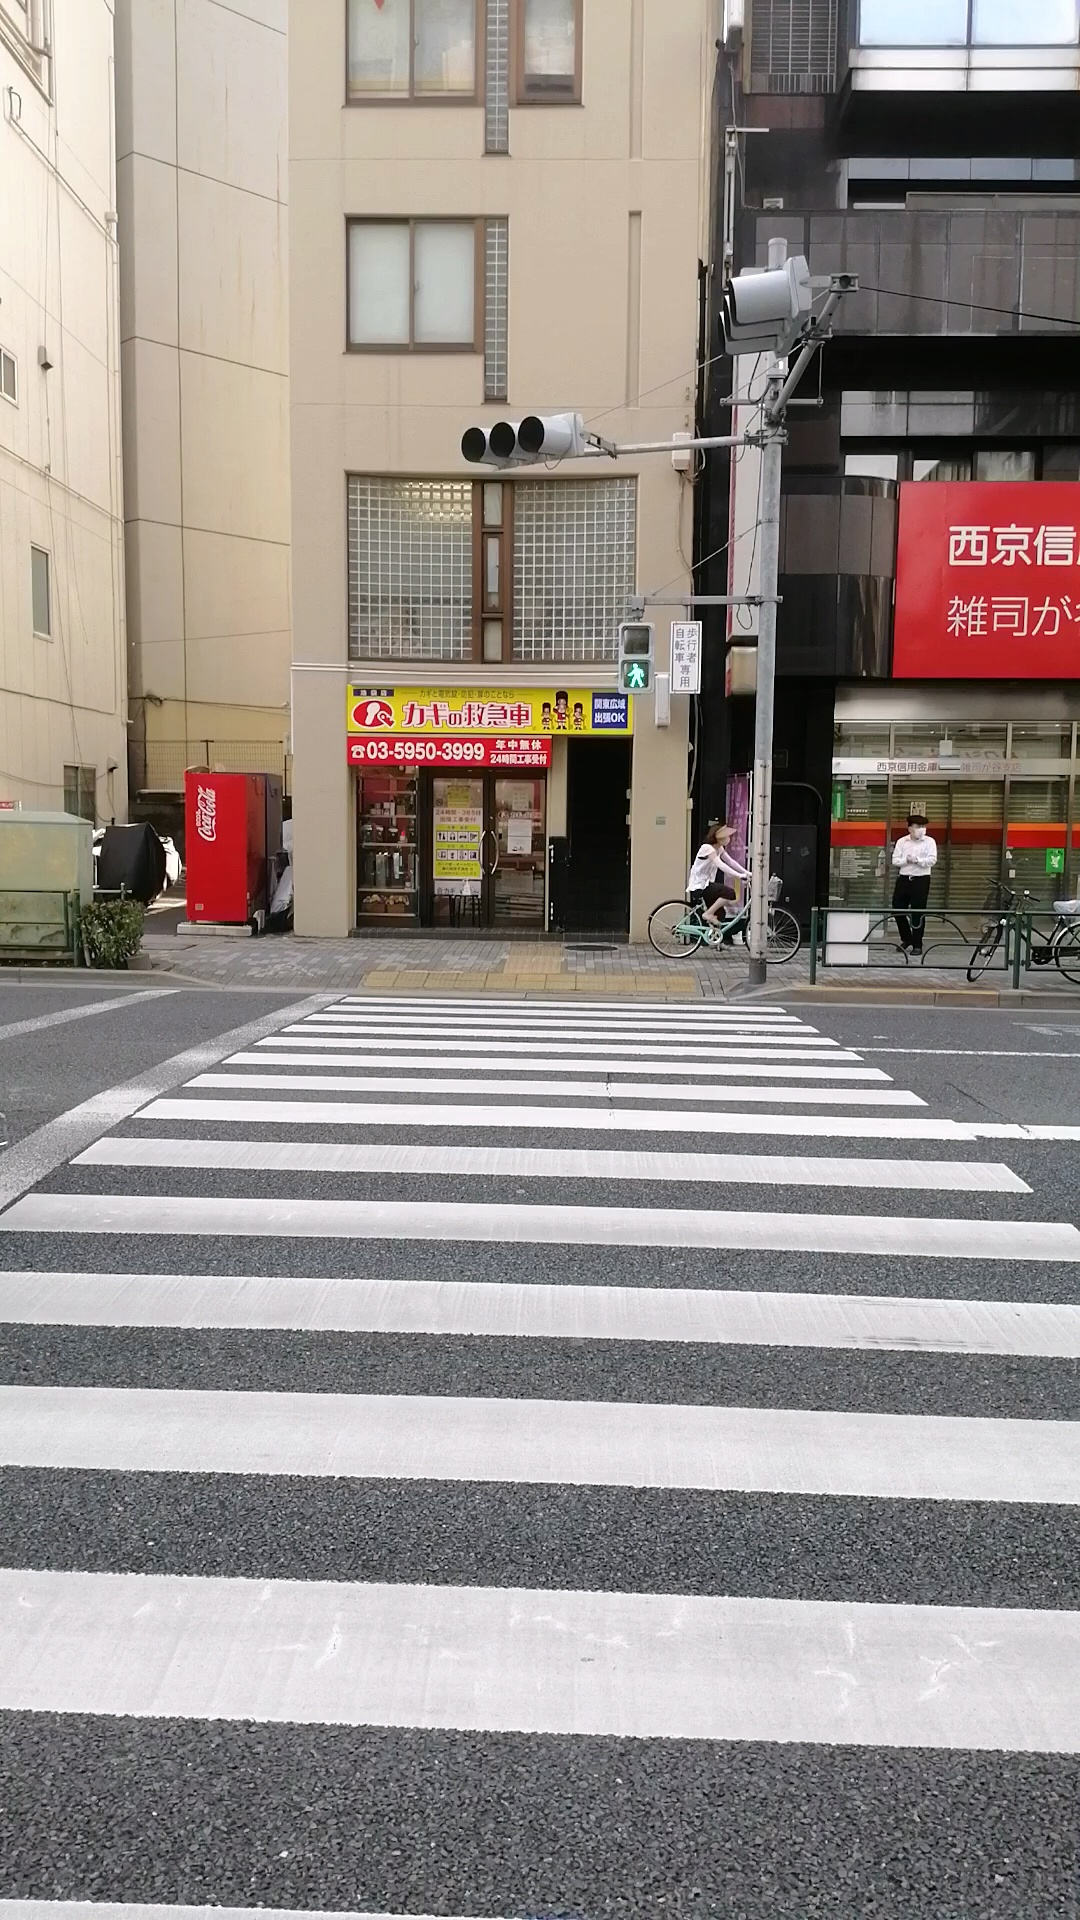green: (617, 621, 653, 696)
